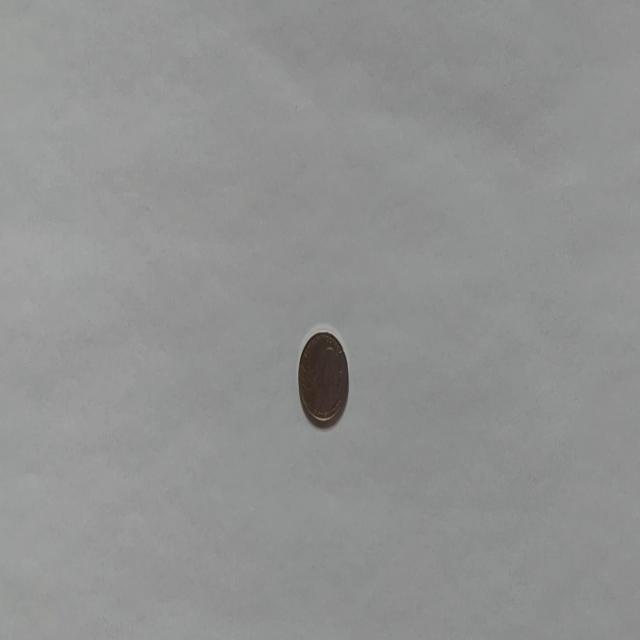seribu rupiah koin: (296, 326, 349, 428)
